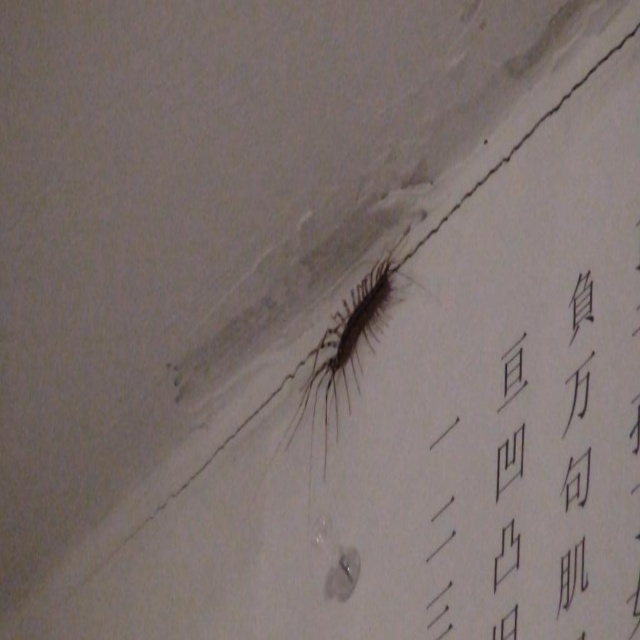Centipede: (275, 190, 424, 525)
